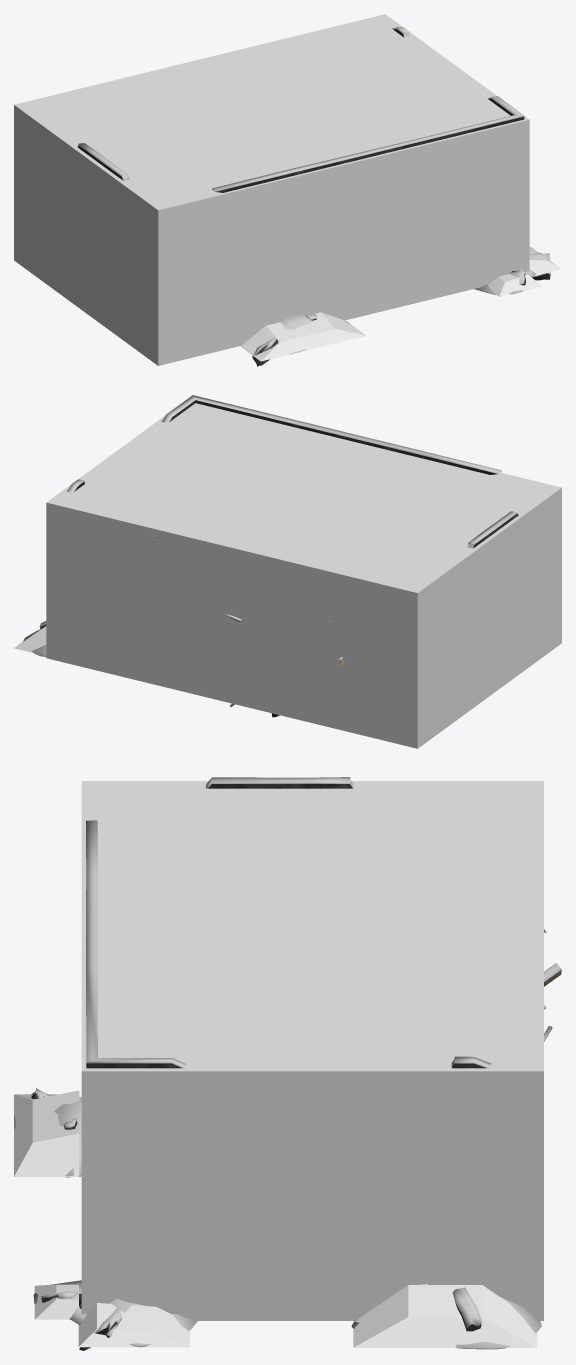
File: House-Type02.fbx
3 views of the same model, one above another, from view 1: azimuth 30°, elevation 25°; view 2: azimuth 150°, elevation 25°; view 3: azimuth 270°, elevation 25° (orthographic). The views are drawn at different scales.
Parts seen in each view (by area): view 1: House-Type02_col, snow, House-Type02; view 2: House-Type02_col, snow, House-Type02; view 3: House-Type02_col, snow, House-Type02.
Part boxes in pixels (x1,y1,x2,y2): House-Type02_col: (14,14,561,365); snow: (78,27,550,355); House-Type02: (77,29,550,366); House-Type02_col: (14,403,561,748); snow: (23,395,518,706); House-Type02: (40,400,518,717); House-Type02_col: (14,781,543,1347); snow: (14,777,561,1349); House-Type02: (31,780,561,1350).
Size of the model in its own units: 909 by 371 by 660.
